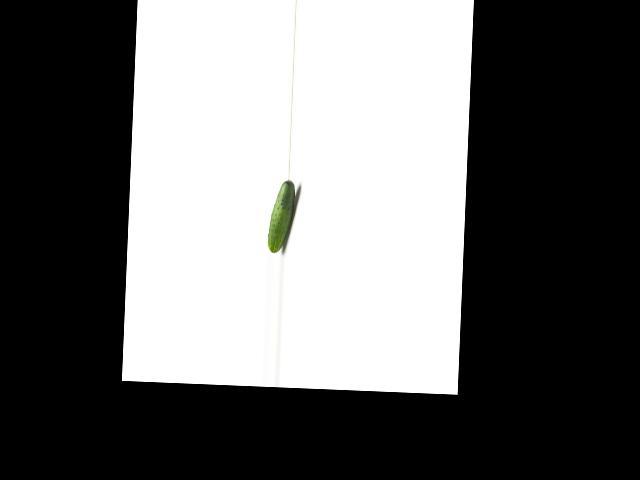cucumber: (267, 178, 296, 253)
